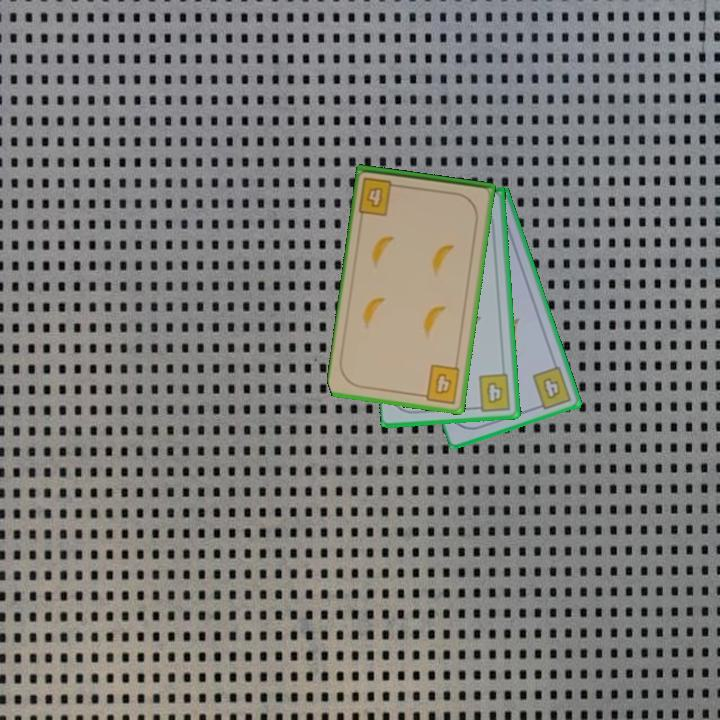4b: (529, 363, 575, 413), (416, 361, 463, 406), (356, 174, 404, 218), (471, 370, 513, 414)
